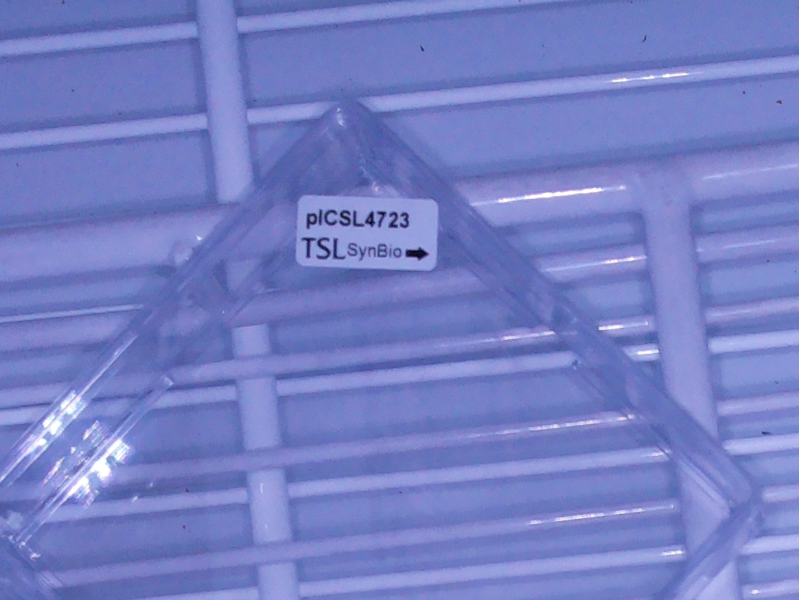plate: (1, 98, 767, 600)
